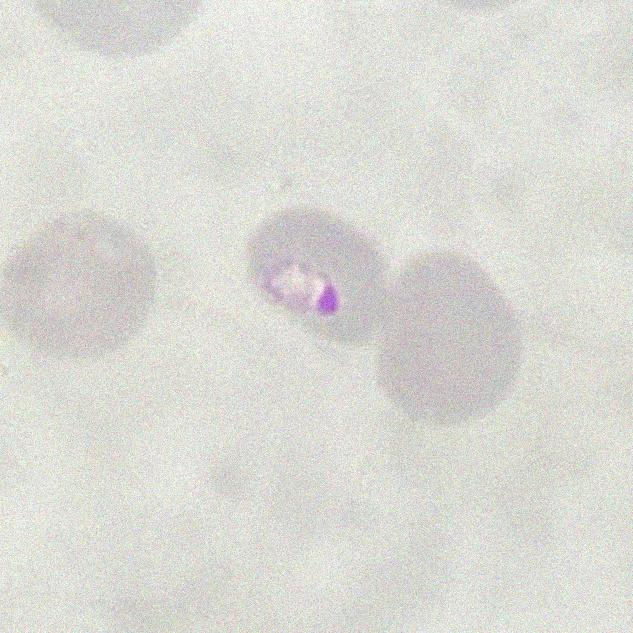Infected: (246, 202, 396, 348)
Uninfected: (376, 248, 529, 431), (5, 210, 159, 361)
